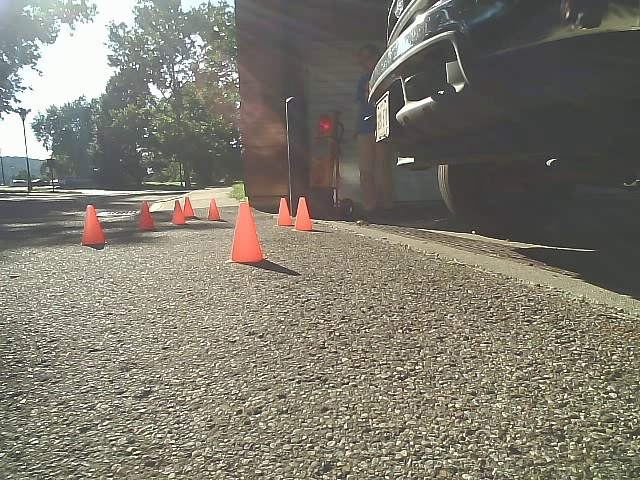red: (309, 112, 337, 189)
